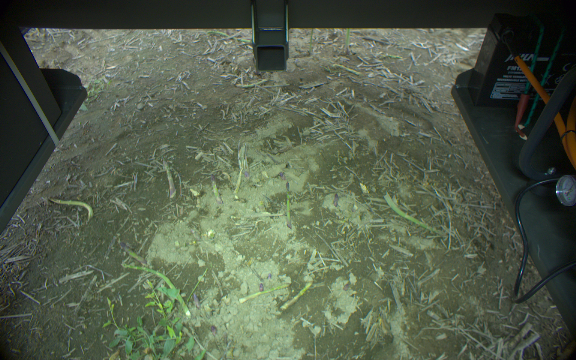aspa: (120, 262, 189, 316), (384, 192, 446, 238), (236, 282, 292, 302), (49, 197, 94, 221), (283, 280, 313, 312), (120, 241, 145, 264), (163, 160, 176, 200), (283, 178, 293, 229), (231, 167, 247, 197), (209, 171, 222, 205)
